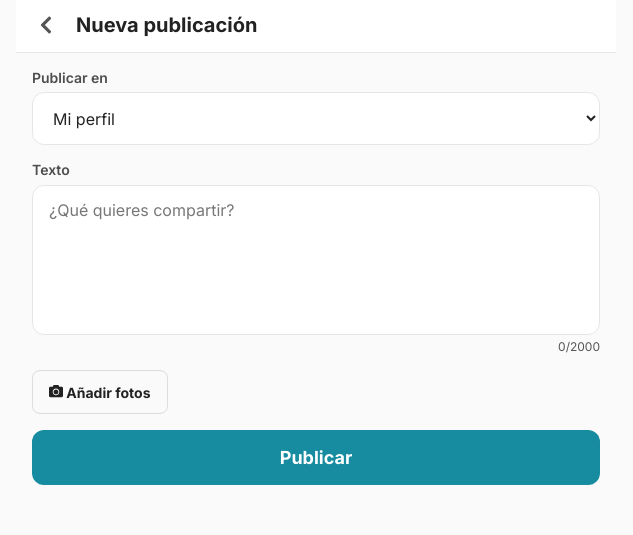
Test: PostCreate › explains a 429 and a 403 above the button
Type "Hola" into the text box labelled "Texto" at (316, 260), box [33,186,599,334]
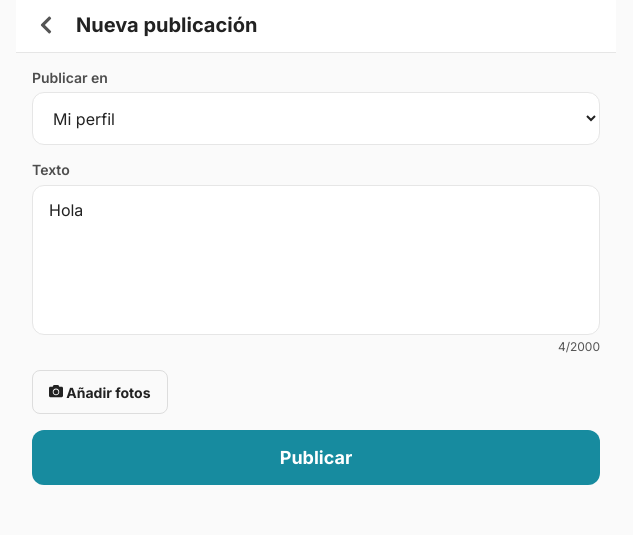
Click the button "Publicar" at (316, 458), box [32,430,600,485]
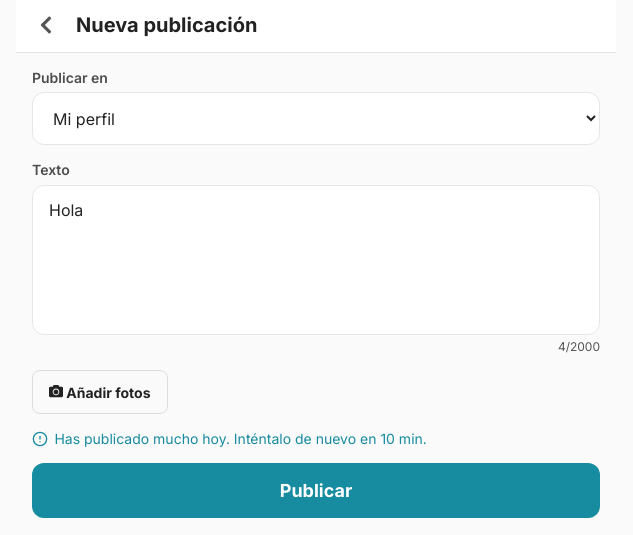
expect the text "Has publicado mucho hoy. Inténtalo de nuevo en 10 min." is shown: met, box [32,430,427,447]
